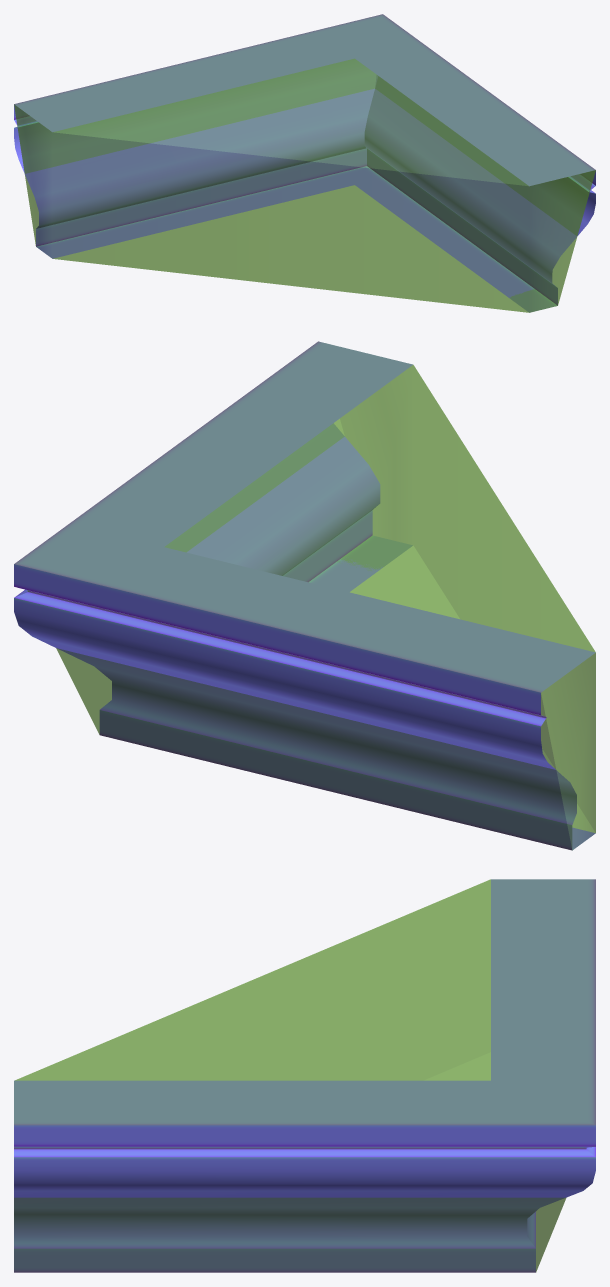
Rendered from F_md_TrimH_90cnr_02.fbx.
3 views of the same model, one above another, from view 1: azimuth 30°, elevation 25°; view 2: azimuth 150°, elevation 25°; view 3: azimuth 270°, elevation 25° (orthographic). The views are drawn at different scales.
Visible parts, largest first — view 1: F_md_TrimH_90cnr_02_col_01, F_md_TrimH_90cnr_02_LOD0; view 2: F_md_TrimH_90cnr_02_col_01, F_md_TrimH_90cnr_02_LOD0; view 3: F_md_TrimH_90cnr_02_col_01, F_md_TrimH_90cnr_02_LOD0.
Part boxes in pixels (x1,y1,x2,y2): F_md_TrimH_90cnr_02_col_01: (14, 14, 595, 312); F_md_TrimH_90cnr_02_LOD0: (14, 14, 595, 312); F_md_TrimH_90cnr_02_col_01: (14, 341, 595, 850); F_md_TrimH_90cnr_02_LOD0: (14, 341, 595, 850); F_md_TrimH_90cnr_02_col_01: (14, 879, 595, 1272); F_md_TrimH_90cnr_02_LOD0: (14, 879, 595, 1272).
Size of what is drawn, in the model's own units: 122 by 40 by 122.
